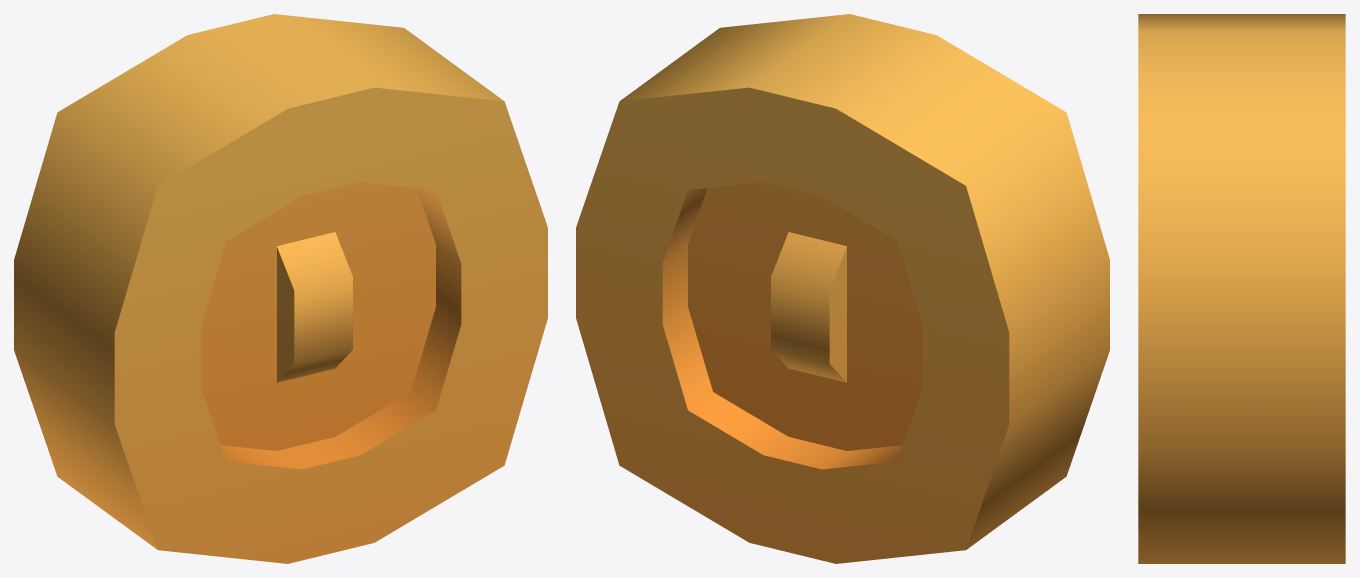
File: Coin.glb
The picture shows the model from 3 angles, left to right: view 1: azimuth 30°, elevation 25°; view 2: azimuth 150°, elevation 25°; view 3: azimuth 270°, elevation 25°; orthographic projection. The views are drawn at different scales.
Visible parts, largest first — view 1: coin; view 2: coin; view 3: coin.
Part boxes in pixels (x1=…): coin: x1=14, y1=14, x2=547, y2=563; coin: x1=576, y1=14, x2=1109, y2=563; coin: x1=1138, y1=14, x2=1345, y2=563.
Size of the model in its own units: 0.415 by 0.4167 by 0.1667.
Materials: 1 (1 with a texture image).
